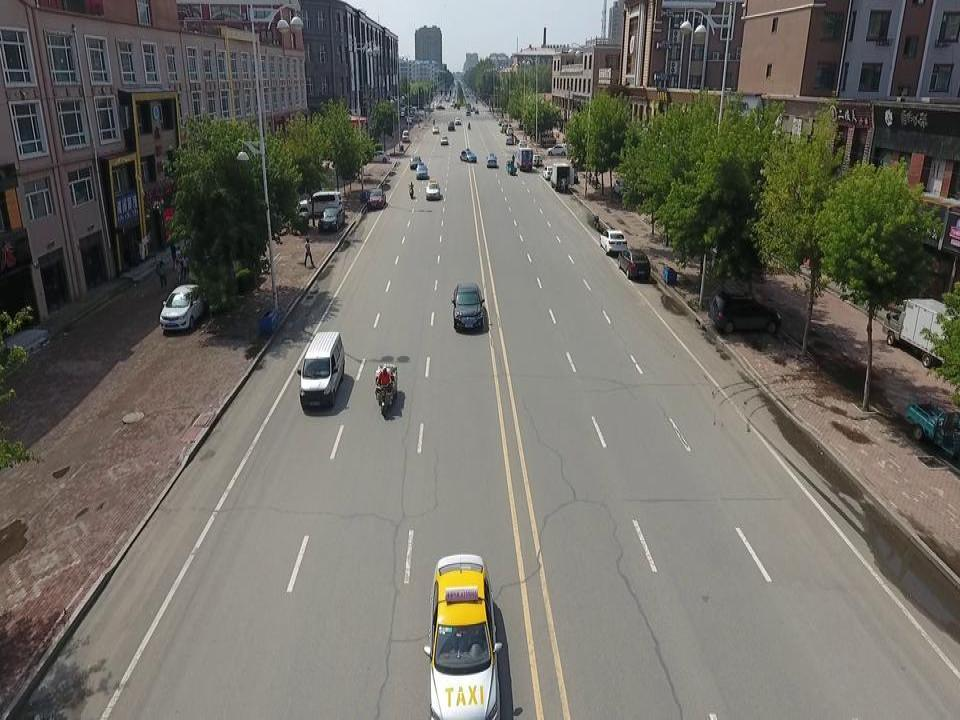car: (428, 554, 503, 720), (710, 292, 782, 336), (160, 286, 207, 330), (451, 283, 485, 332), (295, 190, 343, 218), (617, 249, 651, 279), (599, 229, 627, 255), (318, 206, 345, 230), (366, 189, 386, 211), (613, 179, 635, 197), (425, 180, 441, 200), (546, 144, 569, 156), (367, 150, 390, 162), (459, 148, 477, 163), (416, 162, 428, 178), (486, 153, 497, 168), (543, 166, 556, 178), (410, 156, 421, 169), (533, 154, 542, 166), (440, 134, 448, 146), (447, 121, 455, 132), (517, 140, 527, 148), (455, 116, 461, 127), (432, 126, 439, 134)
truck: (881, 299, 958, 377), (551, 164, 574, 191), (515, 148, 532, 172)
van: (297, 332, 345, 409), (538, 132, 556, 144), (402, 129, 408, 143)
